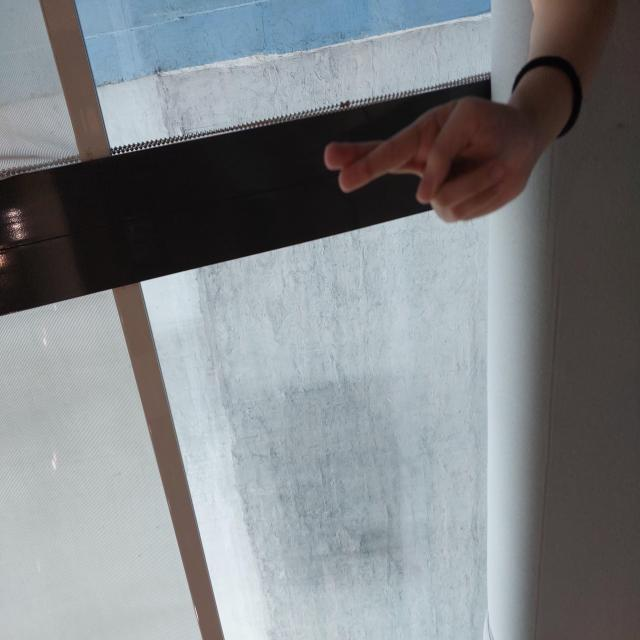R: (417, 322, 544, 526)
